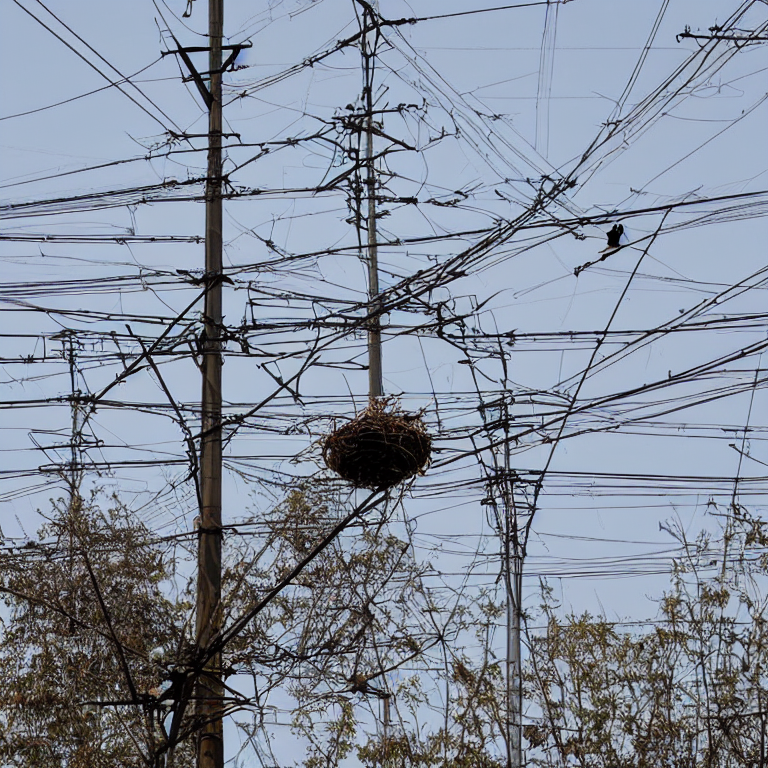nest: (325, 413, 433, 490)
